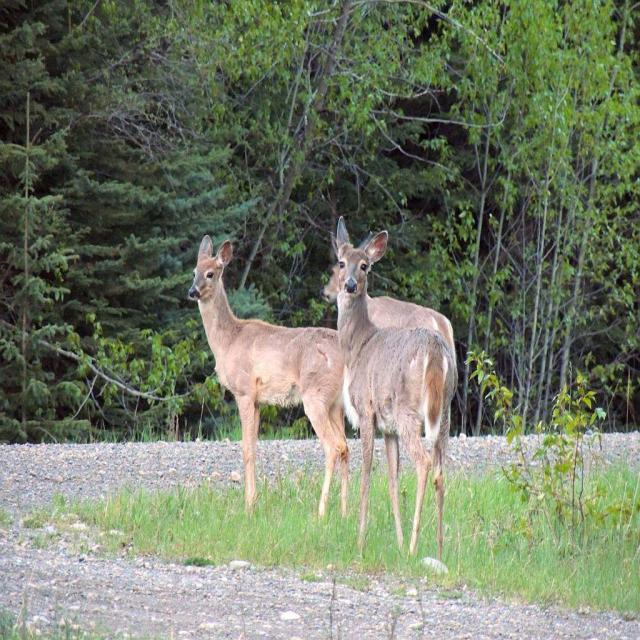Deer: (189, 233, 345, 521), (340, 222, 441, 576)
